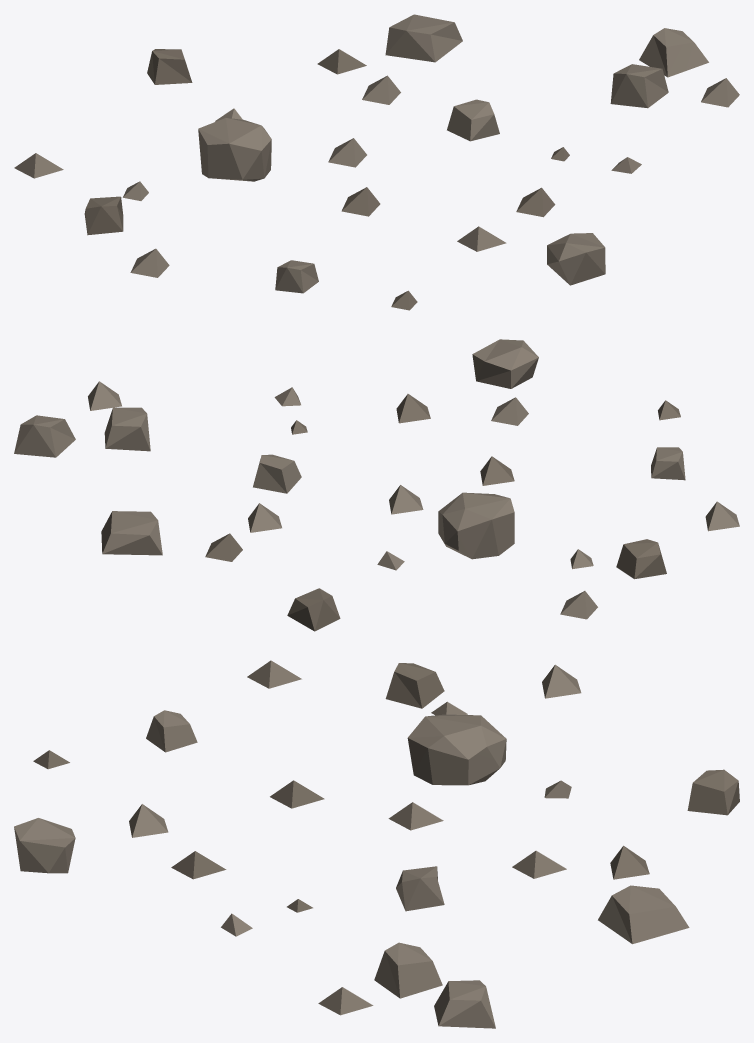
Rendered from SM_Prop_Rubble_08.obj.
3 renders of one model, top to bottom at view 1: azimuth 30°, elevation 25°; view 2: azimuth 150°, elevation 25°; view 3: azimuth 270°, elevation 25°, orthographic. The views are drawn at different scales.
Visible parts, largest first — view 1: SM_Prop_Rubble_08_0; view 2: SM_Prop_Rubble_08_0; view 3: SM_Prop_Rubble_08_0.
Boxes of the visible parts, x1,y1,x2,y2 form: SM_Prop_Rubble_08_0: (14, 14, 739, 310); SM_Prop_Rubble_08_0: (14, 339, 739, 631); SM_Prop_Rubble_08_0: (14, 660, 739, 1028).
Size of the model in its own units: 2.21 by 0.1618 by 1.92.
Materials: 1 (1 with a texture image).
